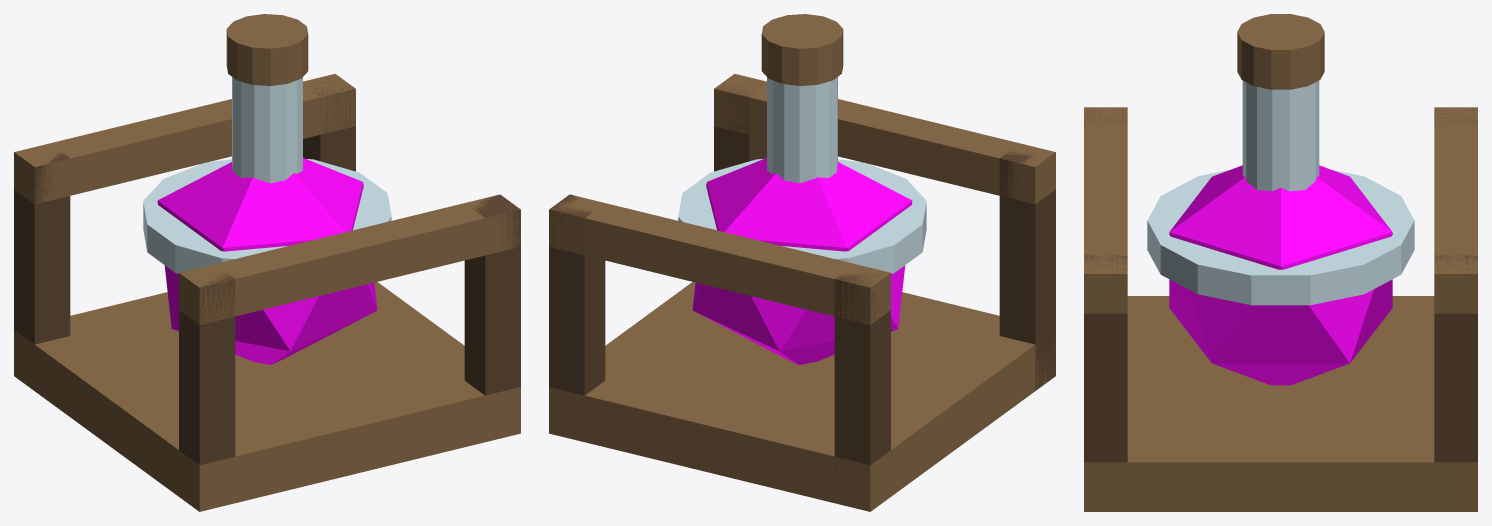
File: objet_science.glb
3 renders of one model, left to right at view 1: azimuth 30°, elevation 25°; view 2: azimuth 150°, elevation 25°; view 3: azimuth 270°, elevation 25°, orthographic. The views are drawn at different scales.
Parts seen in each view (by area): view 1: science_bois.002, science_bois_sombre.002, science_teinte.002, science_verre_clair.002; view 2: science_bois.002, science_bois_sombre.002, science_teinte.002, science_verre_clair.002; view 3: science_bois.002, science_teinte.002, science_verre_clair.002, science_bois_sombre.002.
Boxes of the visible parts, <box> form: science_bois.002: <box>14,14,520,511</box>; science_bois_sombre.002: <box>14,78,520,468</box>; science_teinte.002: <box>157,158,377,364</box>; science_verre_clair.002: <box>143,77,391,273</box>; science_bois.002: <box>549,14,1055,511</box>; science_bois_sombre.002: <box>549,78,1055,503</box>; science_teinte.002: <box>692,158,912,364</box>; science_verre_clair.002: <box>678,77,926,273</box>; science_bois.002: <box>1084,14,1477,511</box>; science_teinte.002: <box>1169,165,1392,385</box>; science_verre_clair.002: <box>1147,80,1414,305</box>; science_bois_sombre.002: <box>1084,107,1477,476</box>.
Size of the model in its own units: 0.18 by 0.2 by 0.18.
